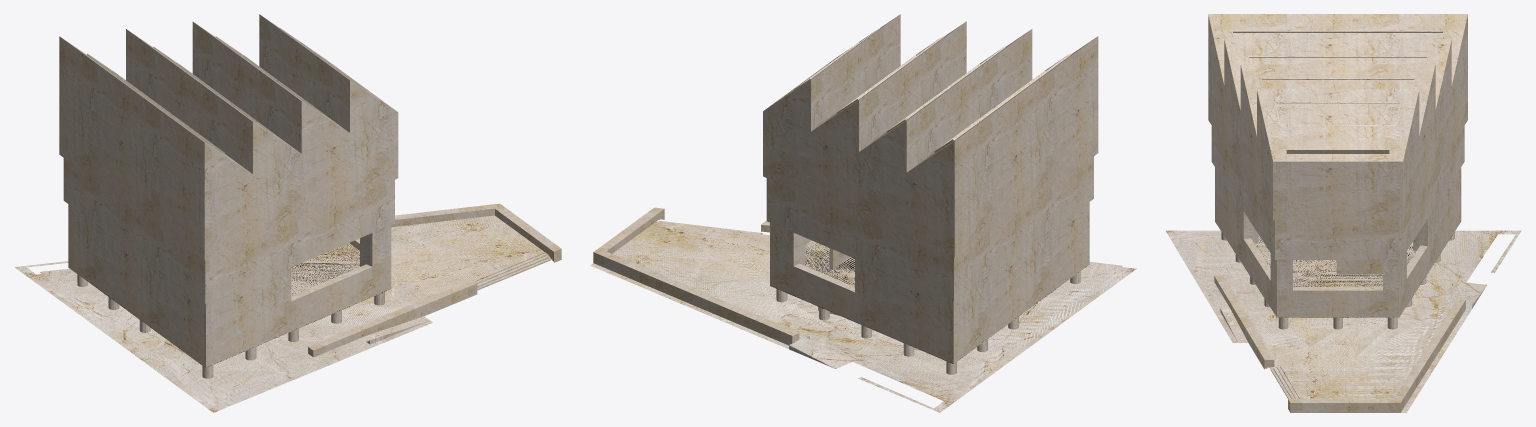
The model's file is museoJumexVer2.dae.
3 renders of one model, left to right at view 1: azimuth 30°, elevation 25°; view 2: azimuth 150°, elevation 25°; view 3: azimuth 270°, elevation 25°, orthographic. The views are drawn at different scales.
Parts seen in each view (by area): view 1: p1_Estructura; view 2: p1_Estructura; view 3: p1_Estructura.
Part boxes in pixels (x1,y1,x2,y2): p1_Estructura: [15, 14, 561, 412]; p1_Estructura: [590, 14, 1136, 412]; p1_Estructura: [1166, 14, 1520, 412].
Size of the model in its own units: 302 by 172 by 250.
Materials: 5 (1 with a texture image).
